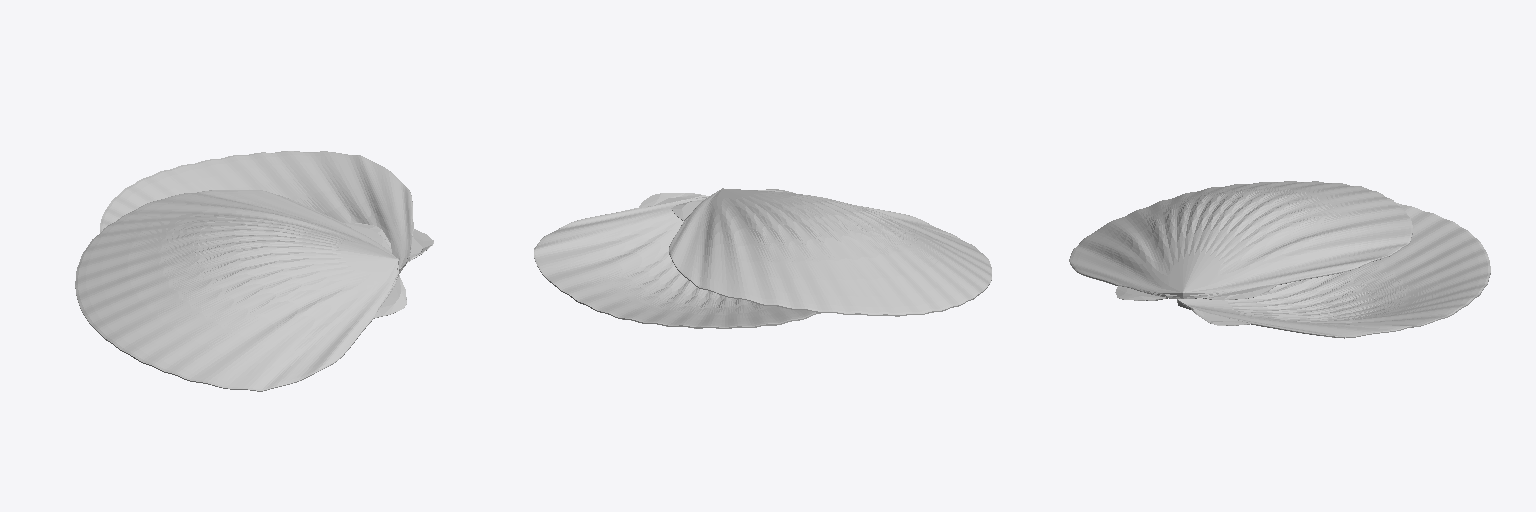
File: seashell_obj.obj
The picture shows the model from 3 angles: view 1: azimuth 30°, elevation 25°; view 2: azimuth 150°, elevation 25°; view 3: azimuth 270°, elevation 25°; orthographic projection.
Bounding box in the file's own units: 103 × 20.88 × 105.